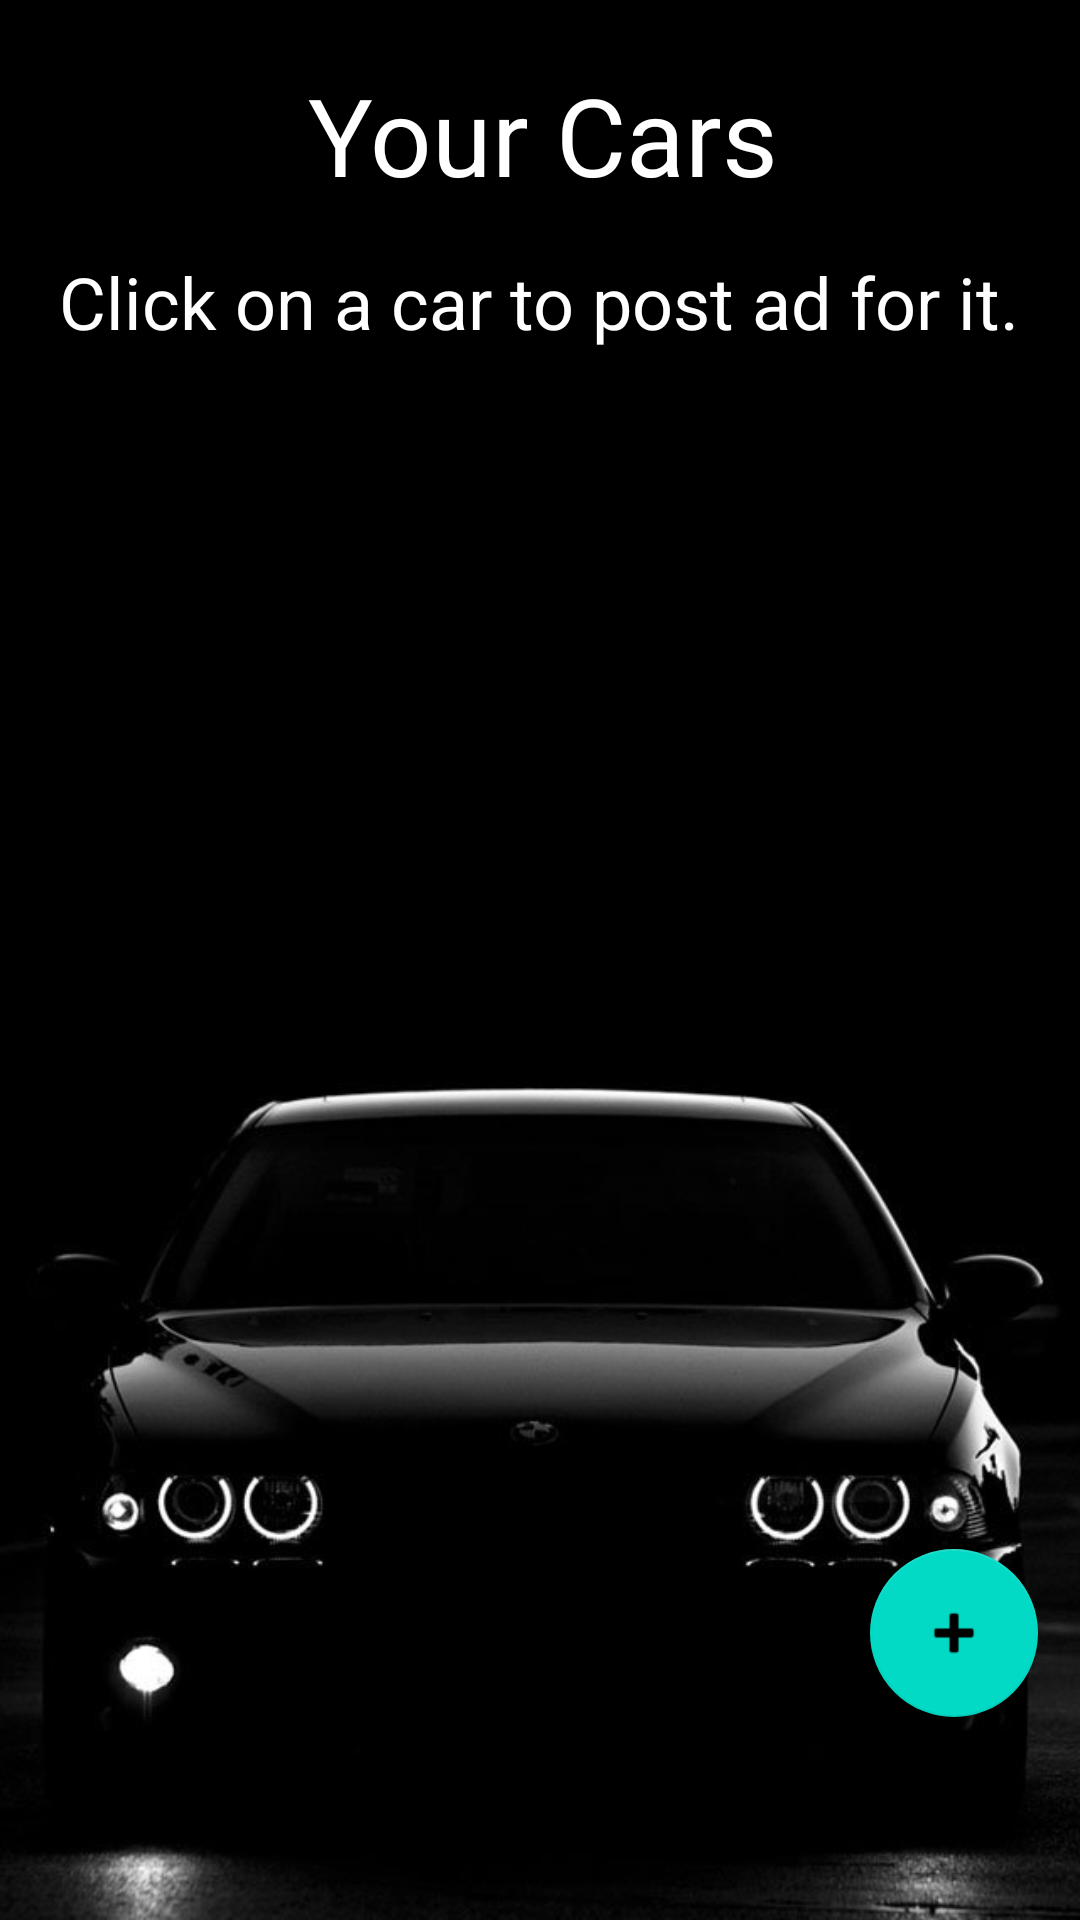

Where to tap for icons on this 1080px×1920px app screen, as (x=x, y=y):
add: (x=954, y=1633)
